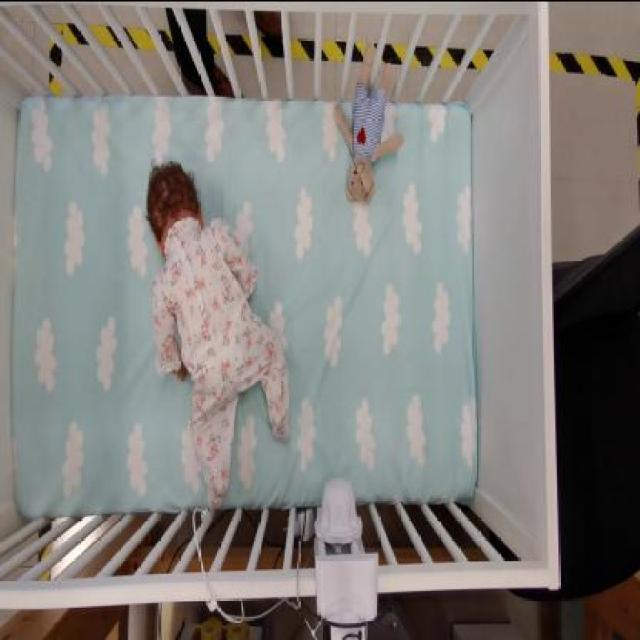baby: (144, 160, 291, 510)
